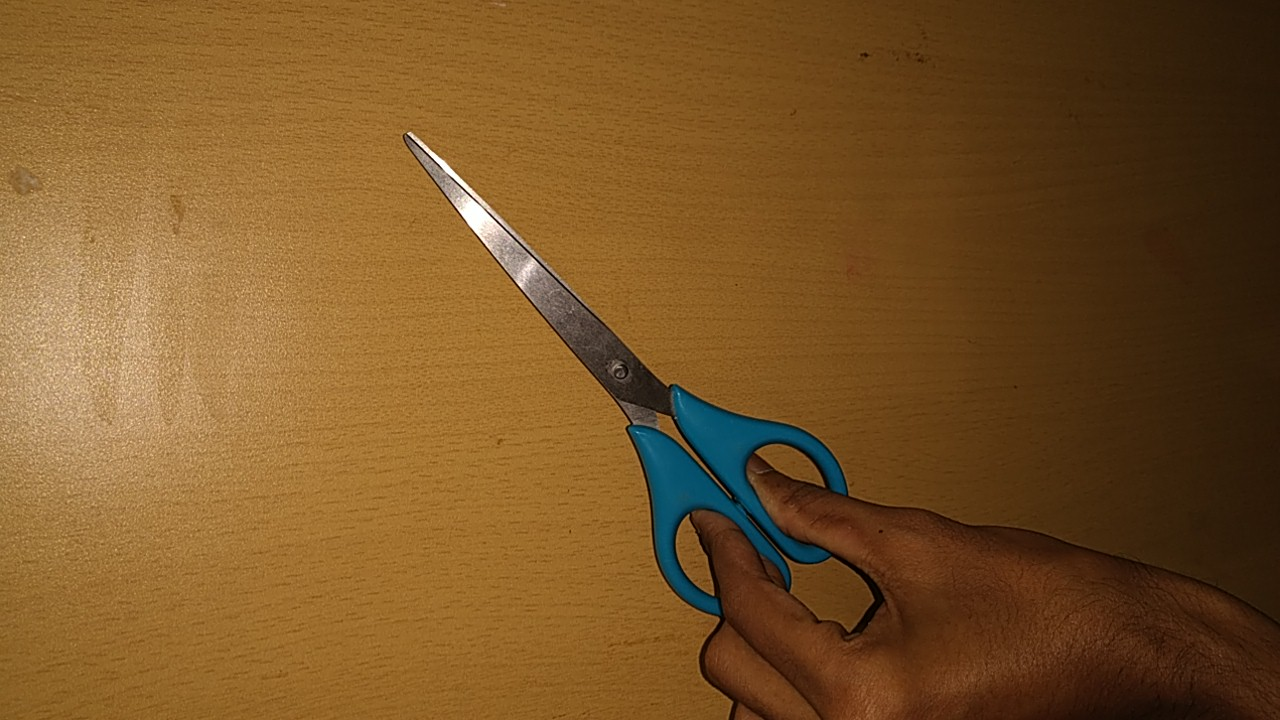scissor: (392, 122, 869, 630)
